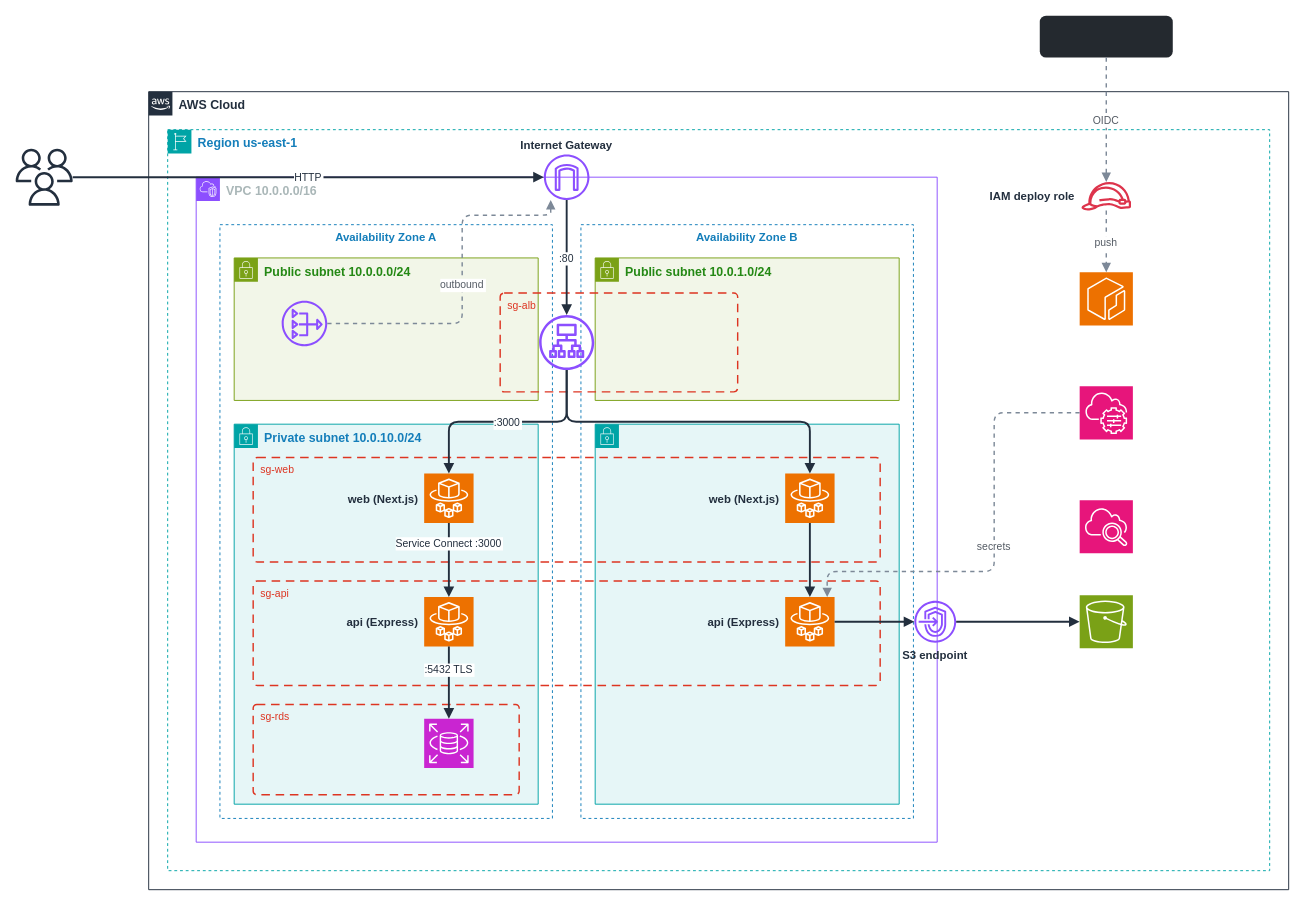
This 1304x905 diagram has some shape labels left out. The shapes that lost their labels are listed below. From the top down, each one's centre as x and y in pixels, then its label:
pixel 1105 36: GitHub Actions
pixel 43 176: Users
pixel 1106 298: Amazon ECR
pixel 304 323: NAT Gateway
pixel 566 342: Application Load Balancer
pixel 1106 412: SSM Parameter Store
pixel 1106 526: CloudWatch Logs
pixel 746 613: Private subnet 10.0.11.0/24
pixel 1106 621: Amazon S3
pixel 448 743: RDS PostgreSQL
